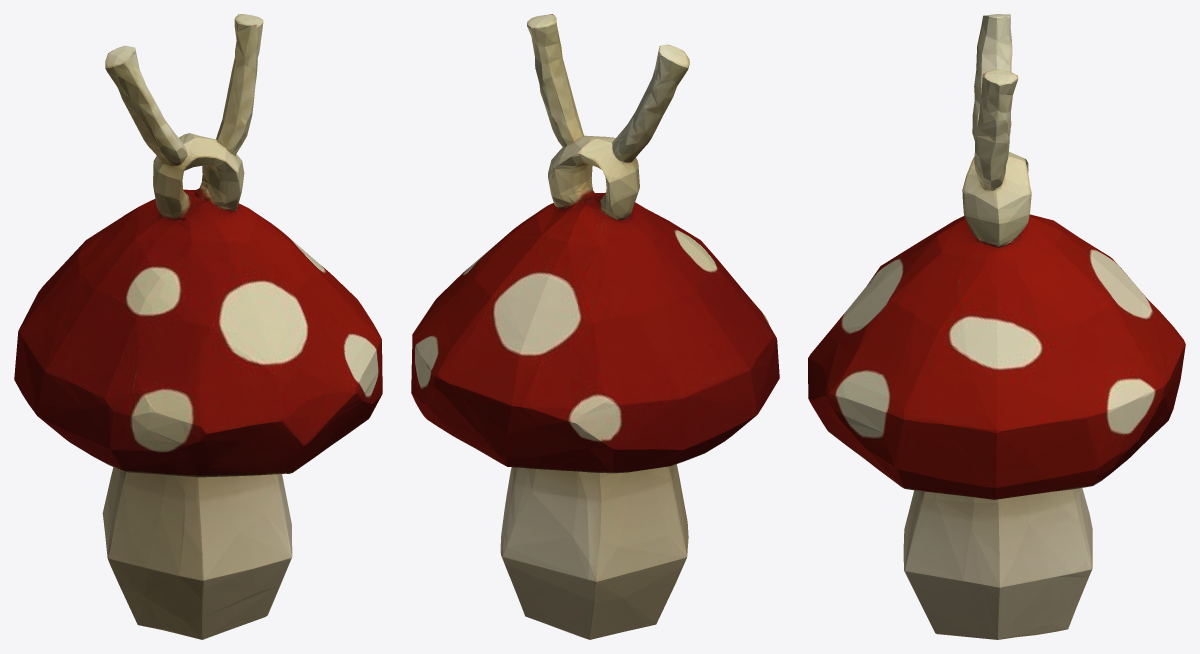
File: champignon_talisman.glb
3 views of the same model, side by side, from view 1: azimuth 30°, elevation 25°; view 2: azimuth 150°, elevation 25°; view 3: azimuth 270°, elevation 25° (orthographic).
Parts seen in each view (by area): view 1: geometry_0; view 2: geometry_0; view 3: geometry_0.
Part boxes in pixels (x1,y1,x2,y2): geometry_0: (14,14,382,639); geometry_0: (411,14,779,639); geometry_0: (808,14,1185,639).
Size of the model in its own units: 0.5712 by 0.9998 by 0.5856.
1 material, 1 textured.
